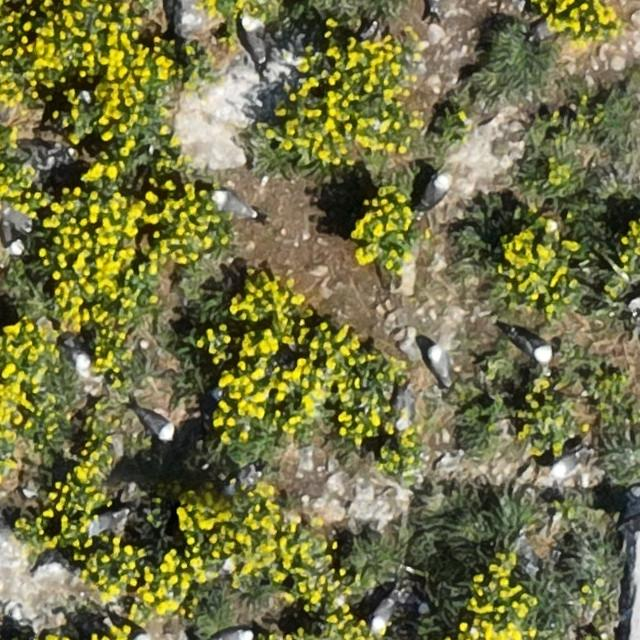umineko: (242, 13, 270, 62), (213, 192, 254, 217), (512, 333, 548, 360), (70, 338, 94, 378), (422, 175, 449, 209), (0, 219, 24, 257), (371, 597, 397, 631), (429, 346, 451, 386), (143, 412, 173, 438), (90, 512, 125, 533), (550, 453, 579, 476), (212, 628, 249, 639)
